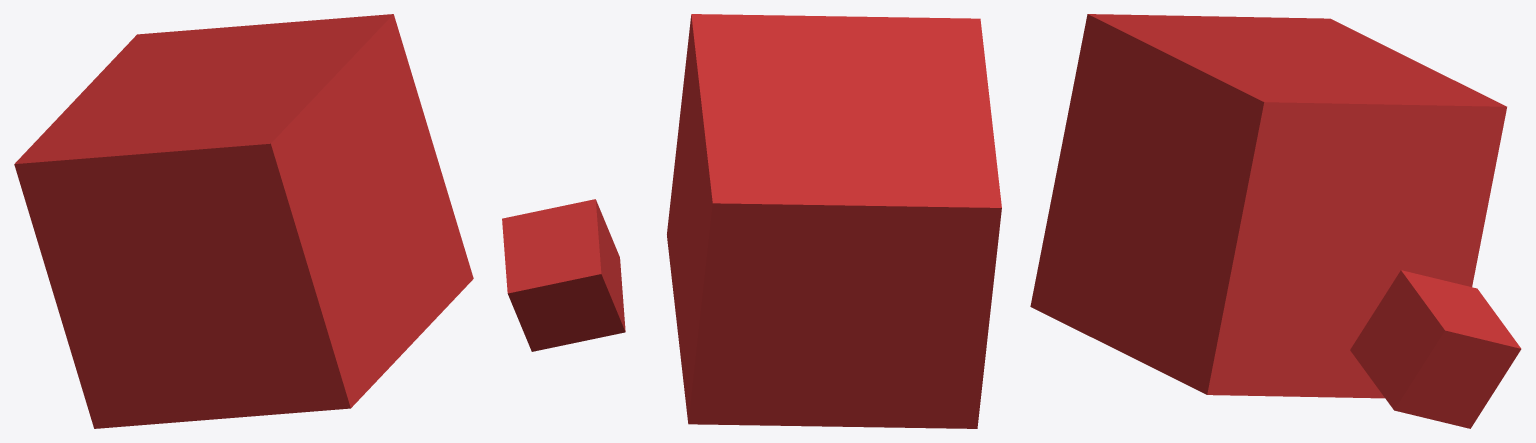
File: seed_pivots_transforms.fbx
3 renders of one model, left to right at view 1: azimuth 30°, elevation 25°; view 2: azimuth 150°, elevation 25°; view 3: azimuth 270°, elevation 25°, orthographic. The views are drawn at different scales.
Parts seen in each view (by area): view 1: PivotNode; view 2: PivotNode, ChildNode; view 3: PivotNode, ChildNode.
Boxes of the visible parts, bbox=[...] form: PivotNode: bbox=[14, 14, 473, 428]; PivotNode: bbox=[667, 14, 1001, 428]; ChildNode: bbox=[502, 199, 625, 351]; PivotNode: bbox=[1030, 14, 1506, 398]; ChildNode: bbox=[1350, 270, 1521, 428].
Size of the model in its own units: 10.6 by 7.75 by 9.63.
